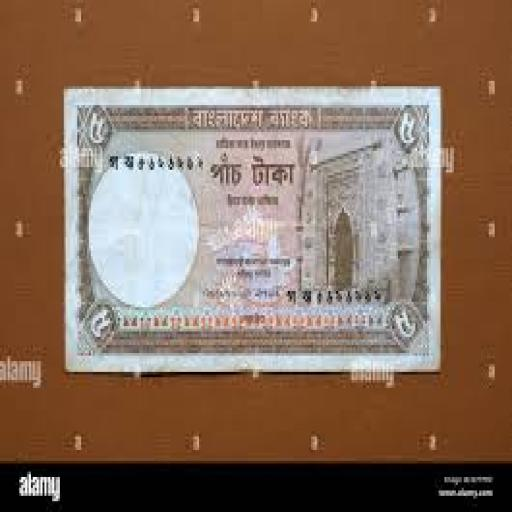5taka: (64, 86, 439, 369)
